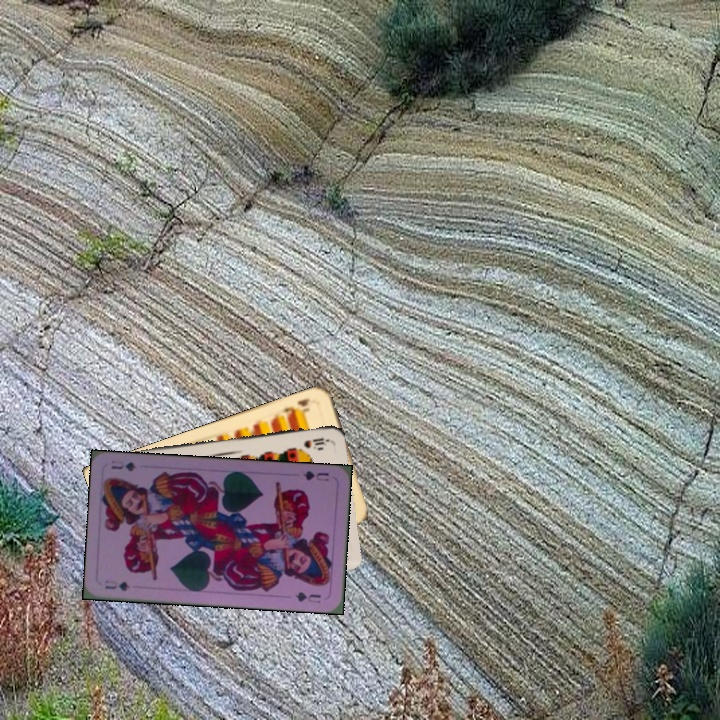E10: (277, 394, 313, 420)
GU: (101, 576, 133, 594), (299, 466, 331, 483)
S10: (300, 434, 330, 450)
